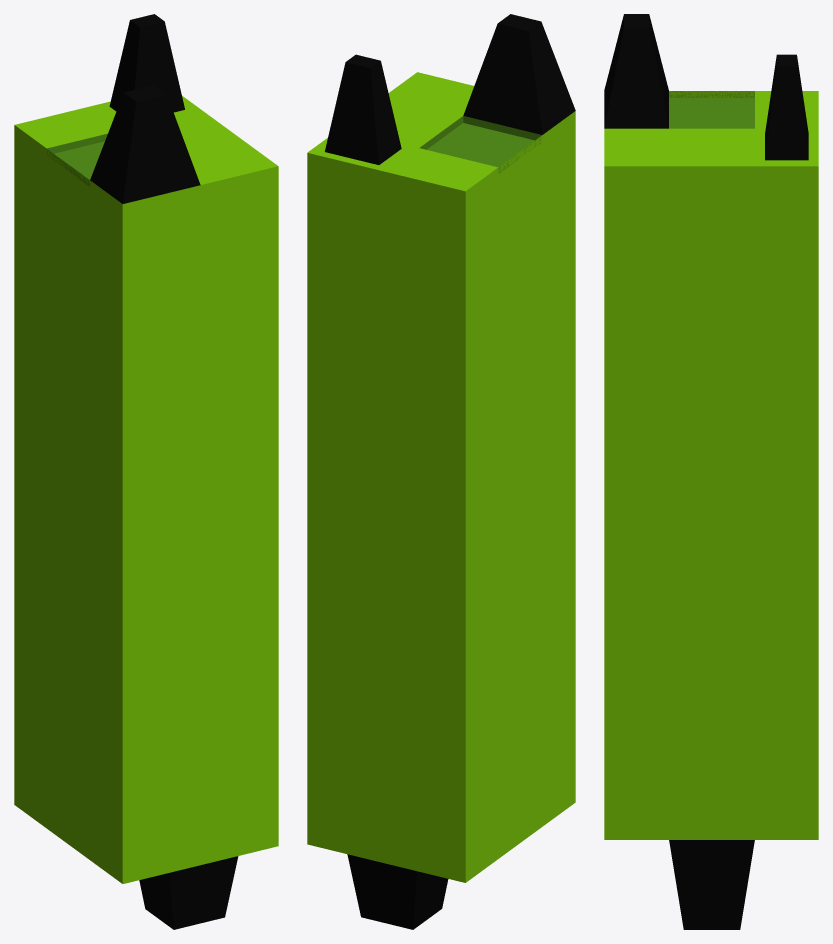
Rendered from Fusible_2_fake.fbx.
3 renders of one model, left to right at view 1: azimuth 30°, elevation 25°; view 2: azimuth 150°, elevation 25°; view 3: azimuth 270°, elevation 25°, orthographic. The views are drawn at different scales.
Visible parts, largest first — view 1: Fusible.007; view 2: Fusible.007; view 3: Fusible.007.
Part boxes in pixels (bbox=[...]): Fusible.007: bbox=[14, 14, 278, 929]; Fusible.007: bbox=[307, 14, 575, 929]; Fusible.007: bbox=[604, 14, 818, 929].
Size of the model in its own units: 47.93 by 255 by 57.74.
